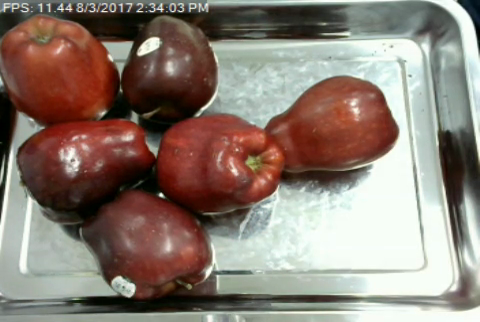Apple: (77, 186, 218, 303), (261, 71, 403, 176), (15, 116, 159, 219), (154, 107, 287, 218), (0, 11, 121, 125), (117, 12, 222, 126)
